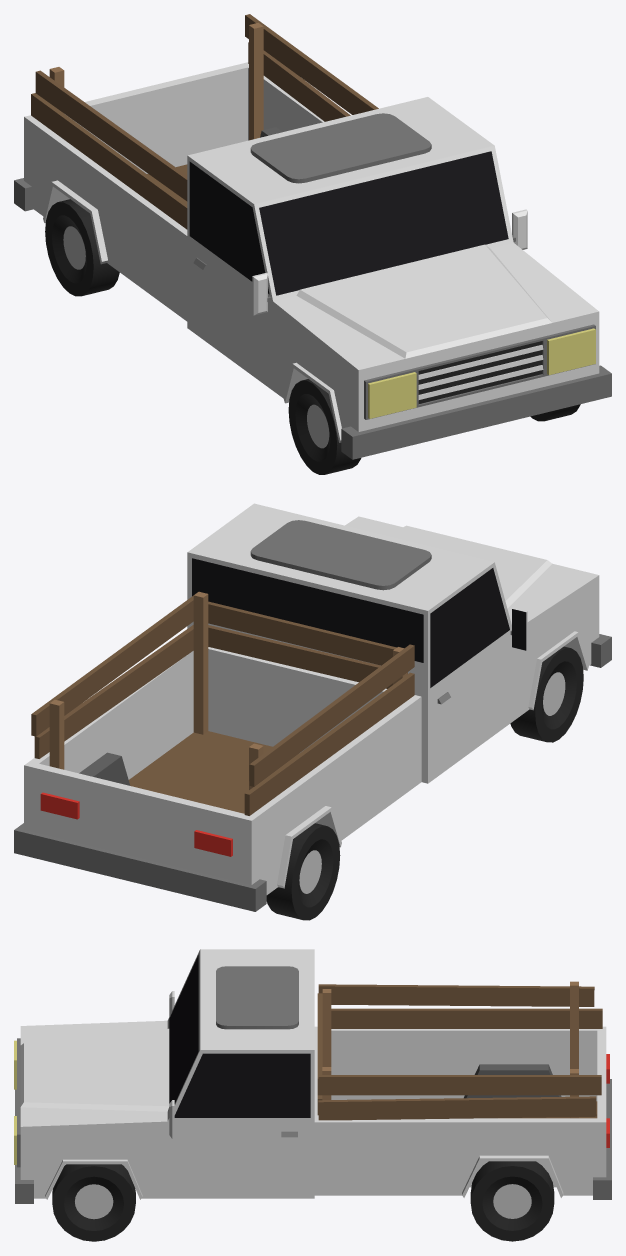
The model's file is Pickup_03.fbx.
The picture shows the model from 3 angles, top to bottom: view 1: azimuth 30°, elevation 25°; view 2: azimuth 150°, elevation 25°; view 3: azimuth 270°, elevation 25°; orthographic projection. The views are drawn at different scales.
Parts seen in each view (by area): view 1: Pickup_03, Pickup_03_Wooden_Bed; view 2: Pickup_03, Pickup_03_Wooden_Bed; view 3: Pickup_03, Pickup_03_Wooden_Bed.
Boxes of the visible parts, x1,y1,x2,y2 form: Pickup_03: (14,62,611,474); Pickup_03_Wooden_Bed: (31,14,378,229); Pickup_03: (14,503,611,920); Pickup_03_Wooden_Bed: (31,591,414,815); Pickup_03: (14,949,611,1241); Pickup_03_Wooden_Bed: (317,981,602,1120).
Bounding box in the file's own units: 2.97 × 2.34 × 6.53.
